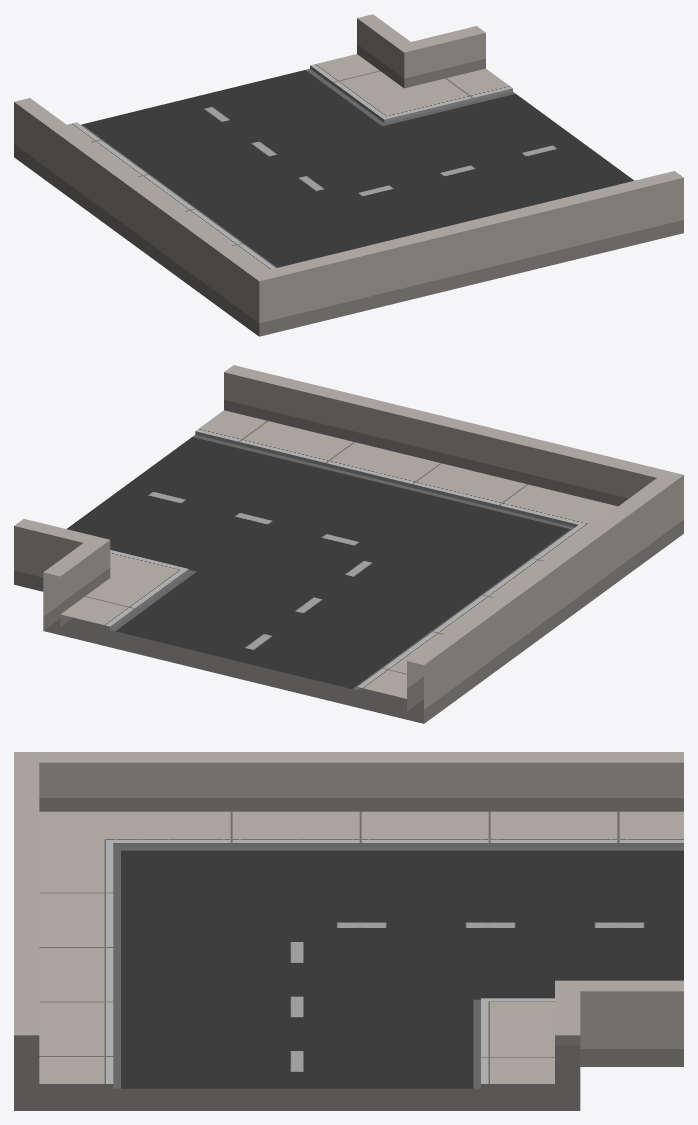
File: Env_Road_Corner.fbx
3 views of the same model, one above another, from view 1: azimuth 30°, elevation 25°; view 2: azimuth 150°, elevation 25°; view 3: azimuth 270°, elevation 25° (orthographic). The views are drawn at different scales.
Parts seen in each view (by area): view 1: Env_Road_Corner1; view 2: Env_Road_Corner1; view 3: Env_Road_Corner1.
Part boxes in pixels (left/top/right/bottom): Env_Road_Corner1: left=14, top=14, right=683, bottom=336; Env_Road_Corner1: left=14, top=365, right=683, bottom=723; Env_Road_Corner1: left=14, top=752, right=683, bottom=1110.
Bounding box in the file's own units: 25.98 × 3.24 × 25.98.
Materials: 1 (1 with a texture image).
